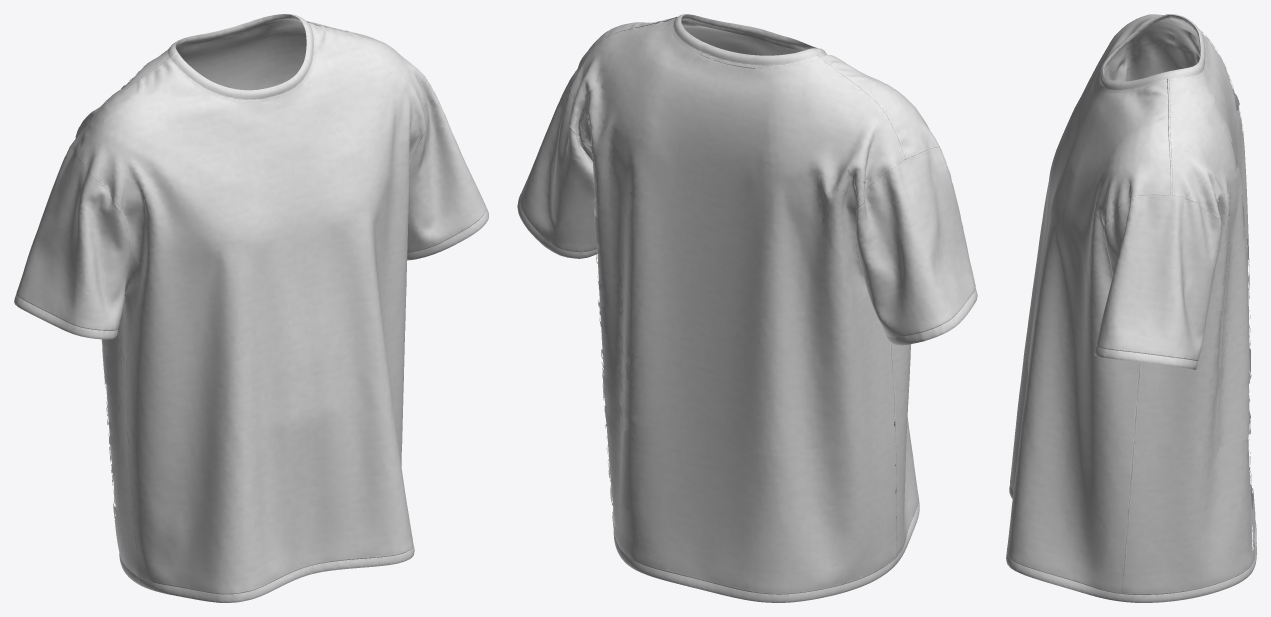
The model's file is BACKDESING2.compressed.glb.
3 views of the same model, side by side, from view 1: azimuth 30°, elevation 25°; view 2: azimuth 150°, elevation 25°; view 3: azimuth 270°, elevation 25° (orthographic). The views are drawn at different scales.
Visible parts, largest first — view 1: Object_2; view 2: Object_2, Object_5.002; view 3: Object_2, Object_5.002.
Boxes of the visible parts, left/top/right/bottom form: Object_2: left=14, top=14, right=488, bottom=602; Object_2: left=517, top=14, right=977, bottom=602; Object_5.002: left=607, top=124, right=830, bottom=457; Object_2: left=1006, top=14, right=1256, bottom=602; Object_5.002: left=1216, top=93, right=1251, bottom=451.
Size of the model in its own units: 7.64 by 8.52 by 3.85.
Materials: 1 (1 with a texture image).
